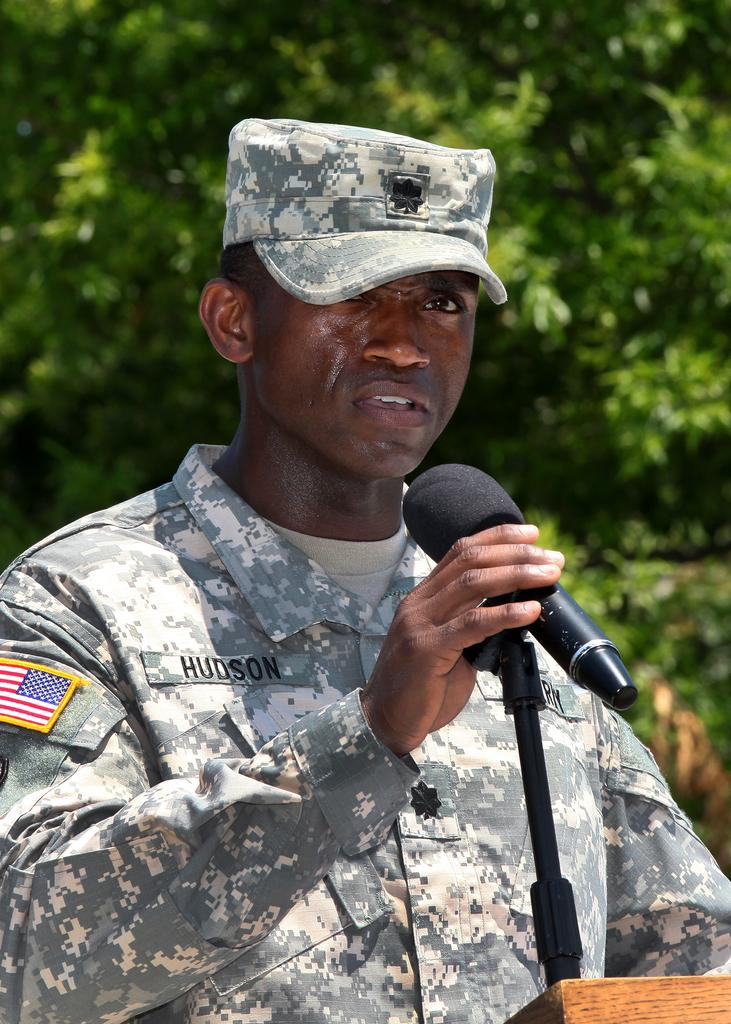Hat: (221, 118, 506, 308)
